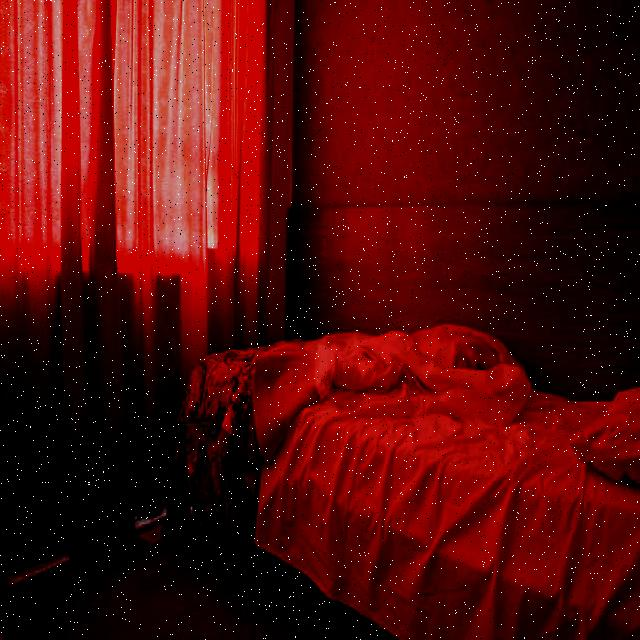bed: (167, 310, 639, 640)
